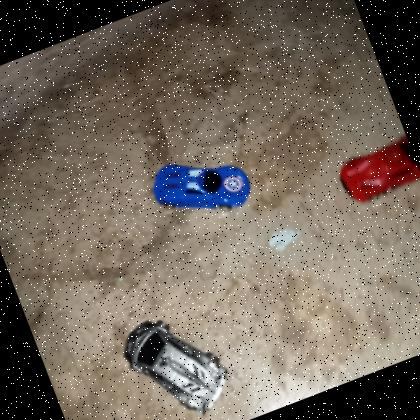Car: (115, 299, 240, 420), (144, 136, 256, 233)
